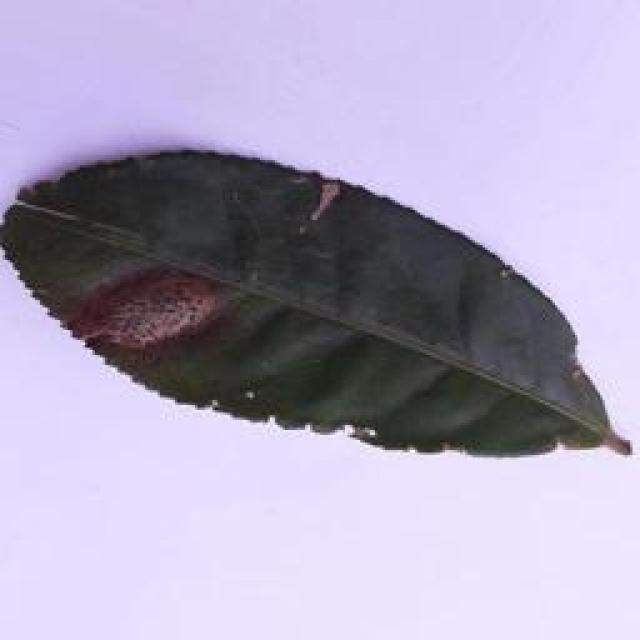Gray Blight: (0, 148, 640, 459)
